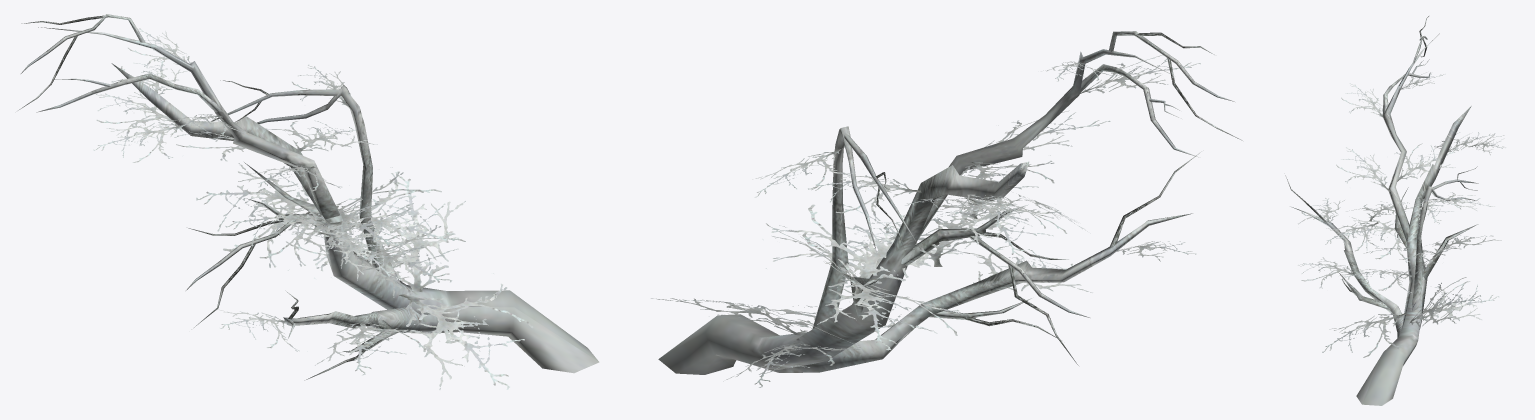
File: S_Tree_White001.FBX
The picture shows the model from 3 angles, left to right: view 1: azimuth 30°, elevation 25°; view 2: azimuth 150°, elevation 25°; view 3: azimuth 270°, elevation 25°; orthographic projection. The views are drawn at different scales.
Visible parts, largest first — view 1: S_Tree_White001; view 2: S_Tree_White001; view 3: S_Tree_White001.
Part boxes in pixels (x1,y1,x2,y2): S_Tree_White001: [18, 14, 599, 389]; S_Tree_White001: [651, 31, 1242, 387]; S_Tree_White001: [1285, 16, 1505, 405].
Bounding box in the file's own units: 959 × 652 × 716.
